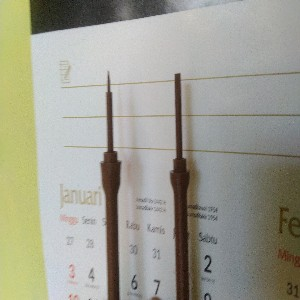obeng: (169, 72, 190, 300)
solder: (99, 67, 123, 300)
